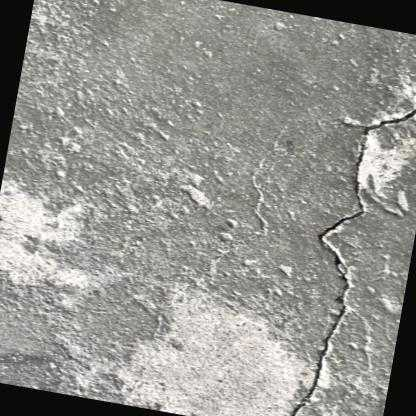crack: (289, 106, 416, 416)
